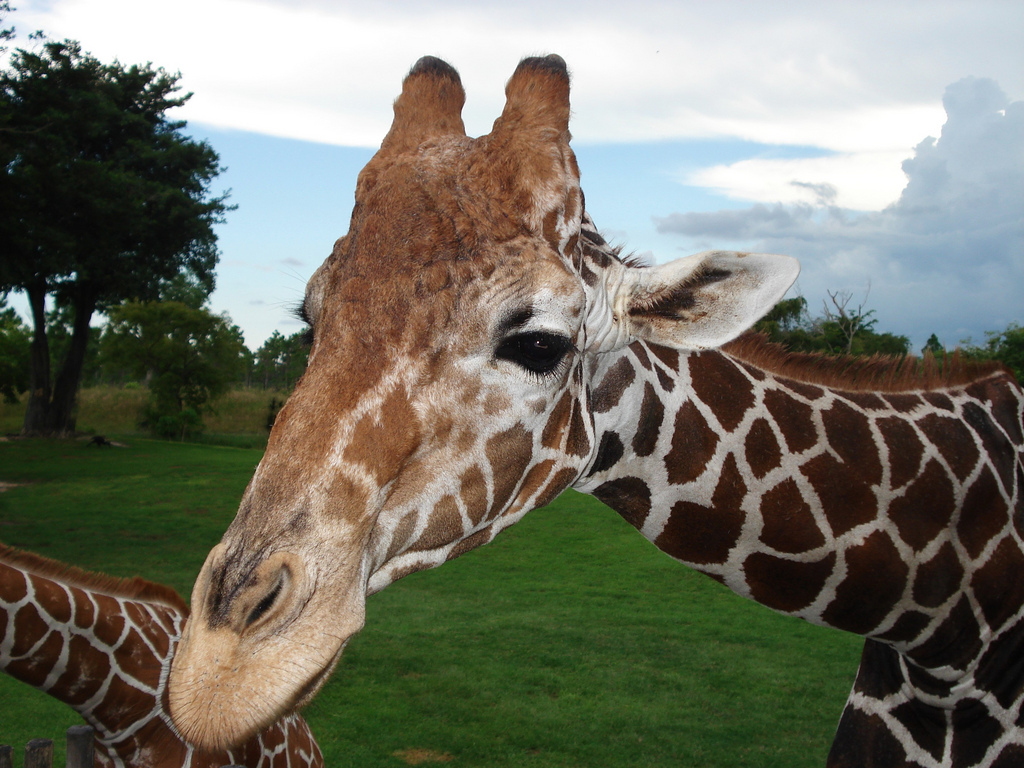giraffe: (165, 75, 1003, 721)
